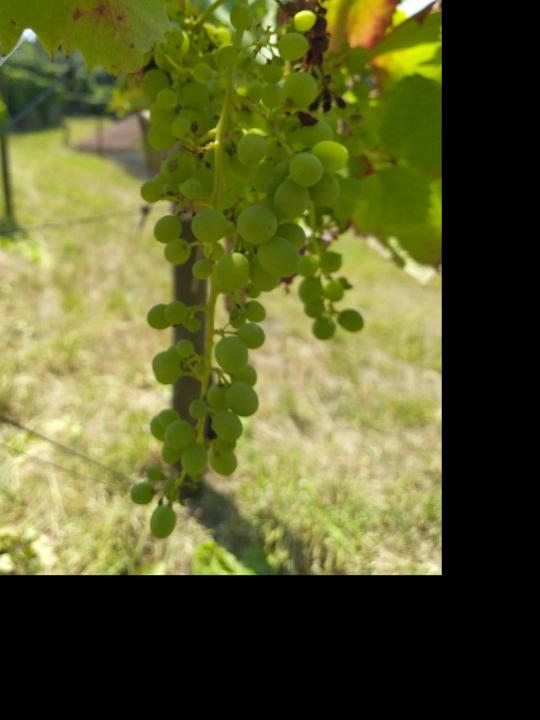grape: (128, 0, 353, 543), (277, 0, 353, 133)
